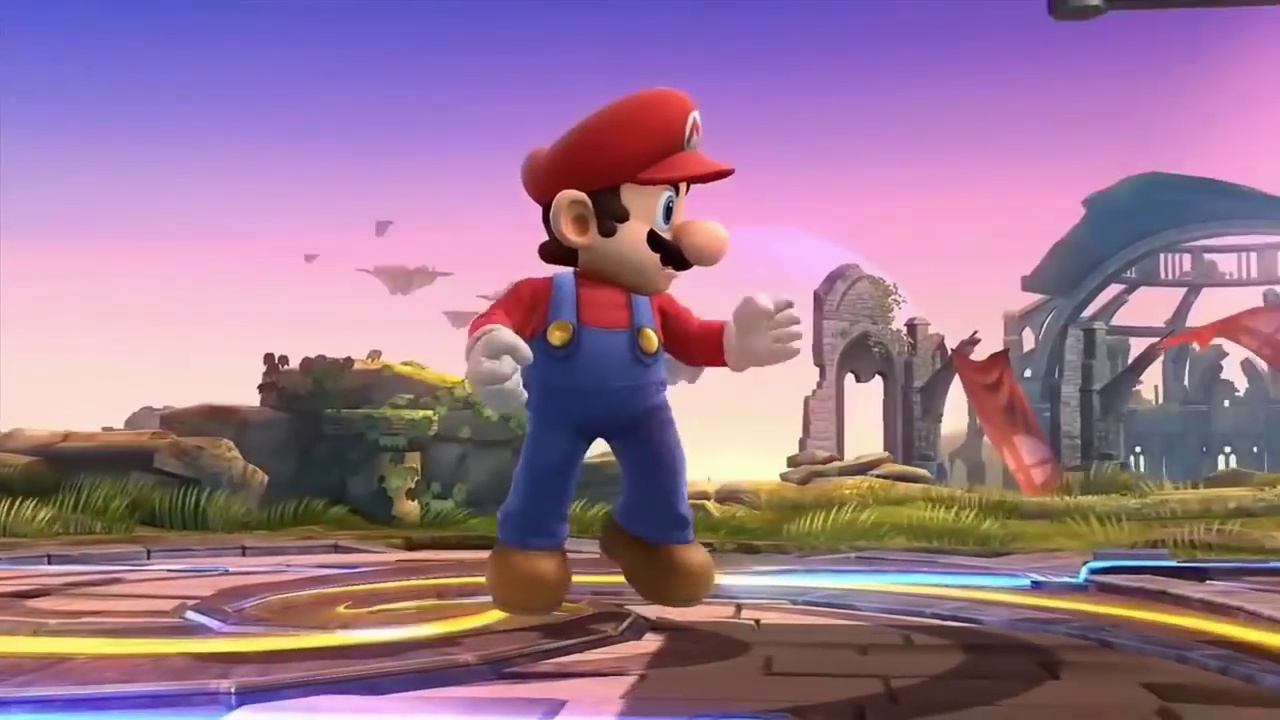Mario: (466, 87, 802, 615)
